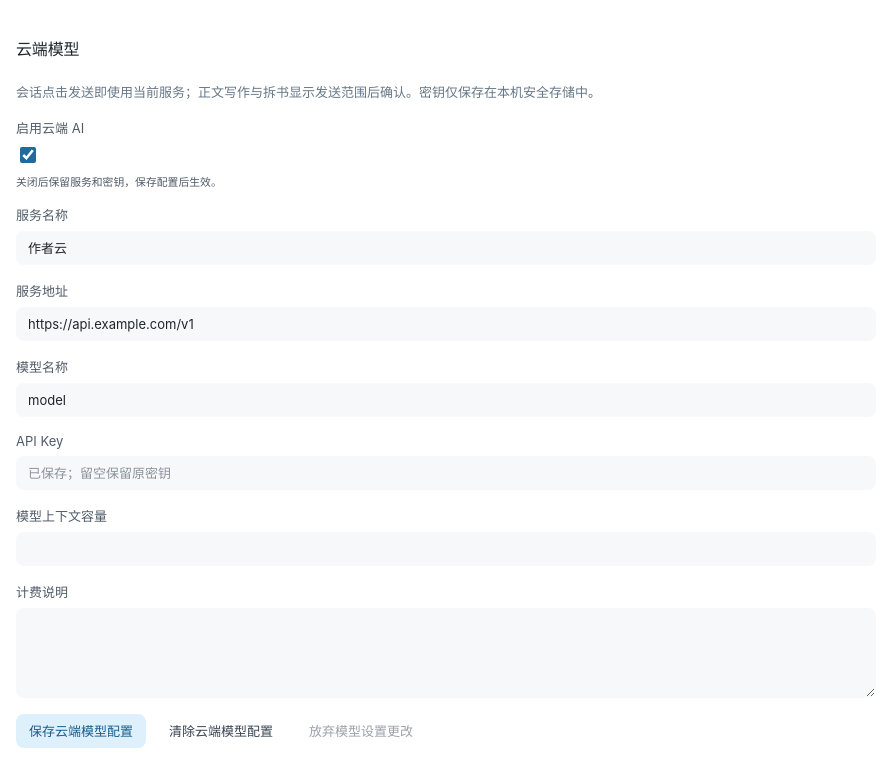
it: 保存成功提示可见的同一提交阶段已解除设置离开保护
Type "synthetic-test-key" into the password field labelled "API Key" at (446, 473), box [16,456,876,490]
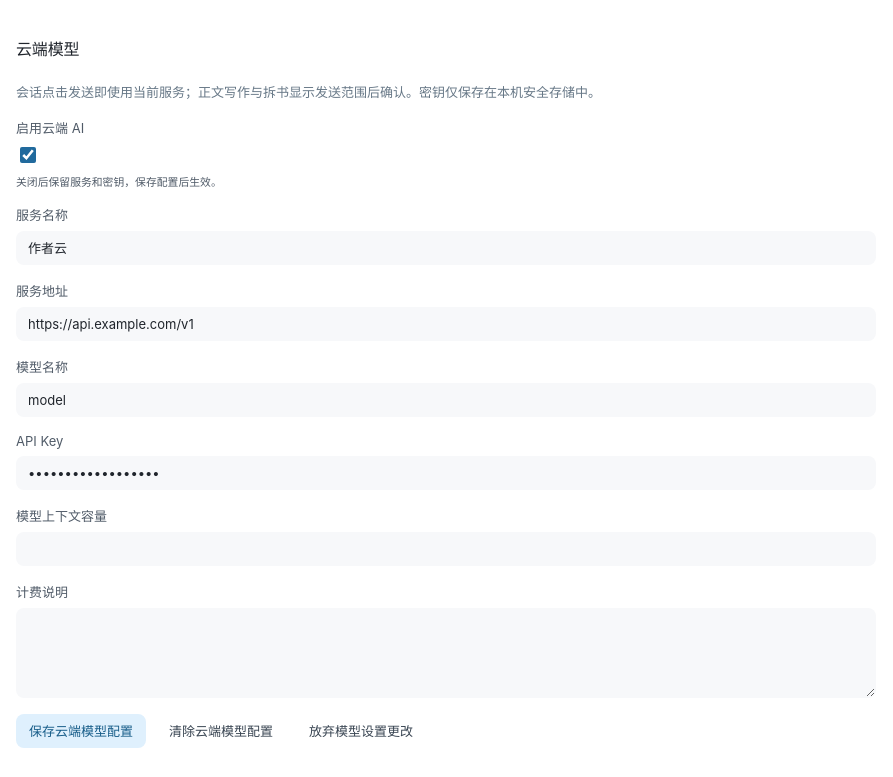
Click the button "保存云端模型配置" at (81, 731), box [16,714,146,748]
(page scrolled)
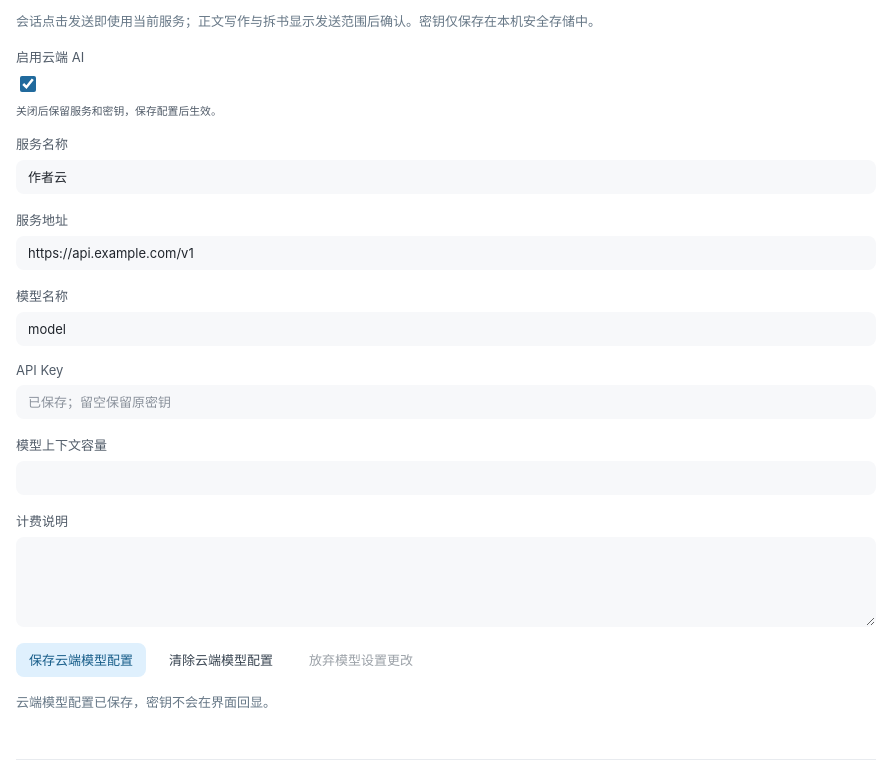
Check: the text "云端模型配置已保存，密钥不会在界面回显。" is shown, box [16,694,276,710]
